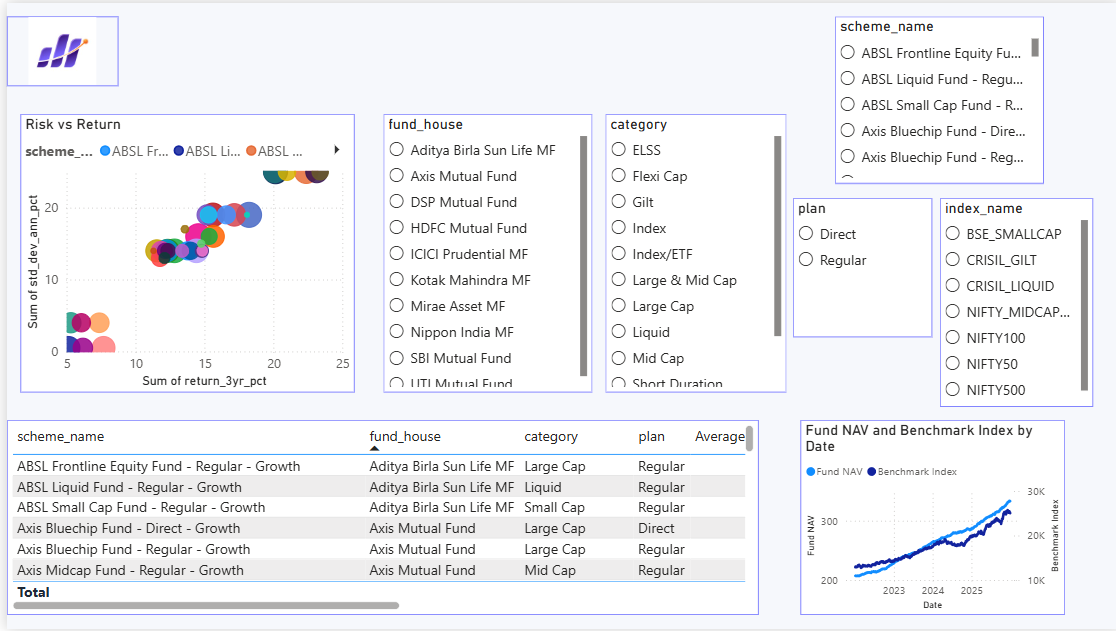

Layout of this report page (visuals, bound fields, positions):
{"tool":"powerbi","page":{"name":"Fund Performance","canvas":[1280,720],"ordinal":1},"visuals":[{"type":"scatterChart","title":"Risk vs Return","fields":{"X":["Sum(07_scheme_performance_clean.return_3yr_pct)"],"Y":["Sum(07_scheme_performance_clean.std_dev_ann_pct)"],"Size":["Sum(07_scheme_performance_clean.aum_crore)"],"Series":["07_scheme_performance_clean.scheme_name"]},"box":[16,128,384,320],"z":0},{"type":"tableEx","fields":{"Values":["07_scheme_performance_clean.scheme_name","07_scheme_performance_clean.fund_house","07_scheme_performance_clean.category","07_scheme_performance_clean.plan","Avg(07_scheme_performance_clean.return_3yr_pct)","Avg(07_scheme_performance_clean.std_dev_ann_pct)","Avg(07_scheme_performance_clean.expense_ratio_pct)","Sum(07_scheme_performance_clean.morningstar_rating)"]},"box":[0,480,864,224],"z":1000},{"type":"listSlicer","fields":{"Values":["07_scheme_performance_clean.fund_house"]},"box":[432,128,240,320],"z":2000},{"type":"listSlicer","fields":{"Values":["07_scheme_performance_clean.category"]},"box":[688,128,208,320],"z":3000},{"type":"listSlicer","fields":{"Values":["07_scheme_performance_clean.plan"]},"box":[904,224,160,160],"z":4000},{"type":"lineChart","fields":{"Y":["Avg(02_nav_history_clean.nav)"],"Y2":["Avg(10_benchmark_indices_clean.close_value)"],"Category":["Calendar.Date"]},"box":[912,480,304,224],"z":5000},{"type":"listSlicer","fields":{"Values":["07_scheme_performance_clean.scheme_name"]},"box":[952,16,240,192],"z":6000},{"type":"listSlicer","fields":{"Values":["10_benchmark_indices_clean.index_name"]},"box":[1072,224,176,240],"z":7000},{"type":"image","box":[0,16,128,80],"z":8000}]}

Visuals, with their boxes in screenshot pixels (x1, y1, x2, y2), scaled from the page's 1280x720 canvas onto the 1116x631 screenshot:
"Risk vs Return" scatterChart: 14 112 349 393
tableEx - 07_scheme_performance_clean.scheme_name x 07_scheme_performance_clean.fund_house: 0 421 753 617
listSlicer - 07_scheme_performance_clean.fund_house: 377 112 586 393
listSlicer - 07_scheme_performance_clean.category: 600 112 781 393
listSlicer - 07_scheme_performance_clean.plan: 788 196 928 337
lineChart - Avg(02_nav_history_clean.nav) x Avg(10_benchmark_indices_clean.close_value): 795 421 1060 617
listSlicer - 07_scheme_performance_clean.scheme_name: 830 14 1039 182
listSlicer - 10_benchmark_indices_clean.index_name: 935 196 1088 407
image: 0 14 112 84
